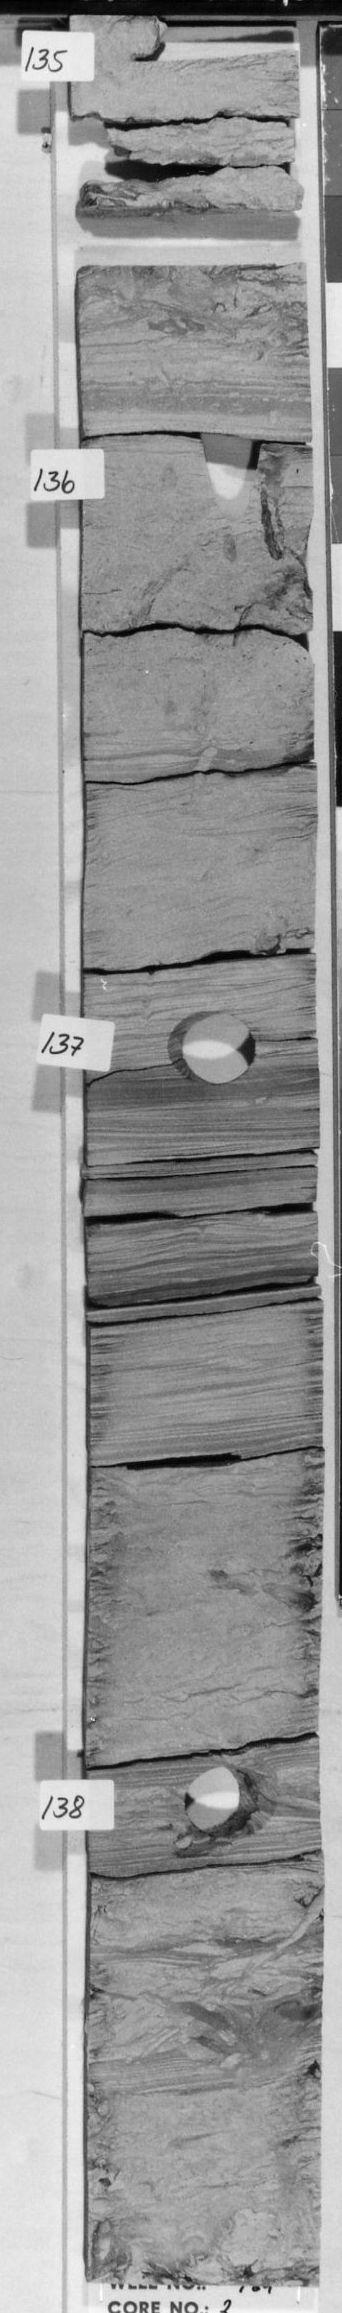hplug: (122, 18, 293, 69), (161, 1003, 262, 1089), (177, 1761, 273, 1841)
vplug: (183, 413, 271, 528)
